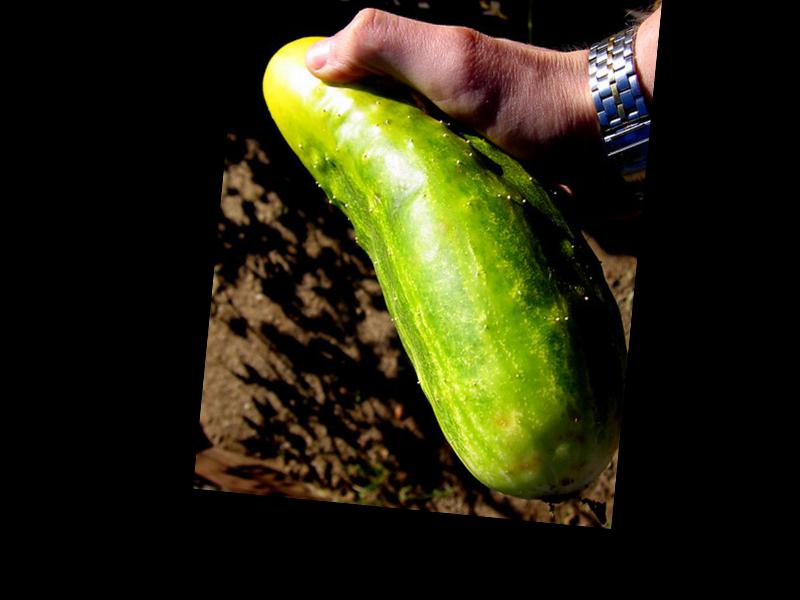Cucumber: (225, 31, 655, 509)
